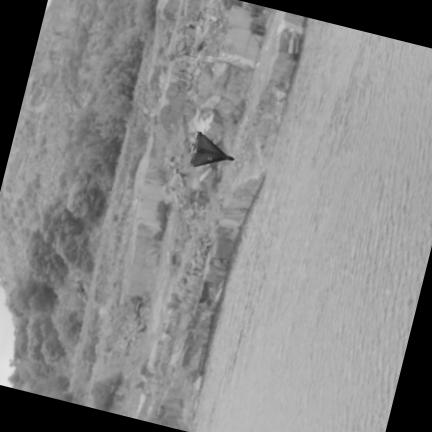Shahed: (190, 131, 233, 165)
